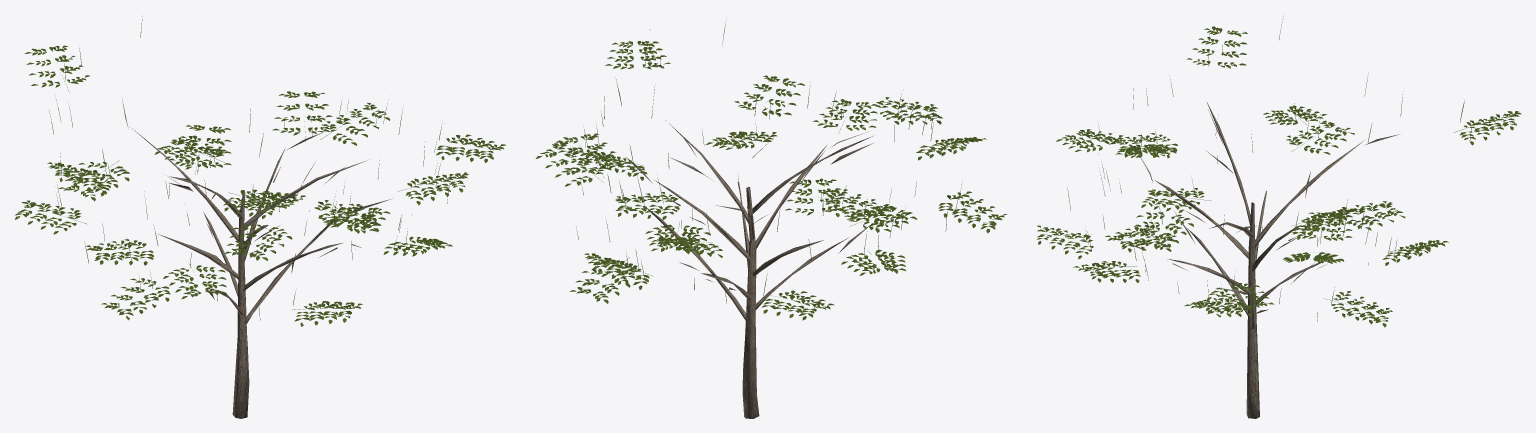
File: koelreuteria-5-lite.glb
3 views of the same model, side by side, from view 1: azimuth 30°, elevation 25°; view 2: azimuth 150°, elevation 25°; view 3: azimuth 270°, elevation 25° (orthographic). The views are drawn at different scales.
Parts seen in each view (by area): view 1: leaf, bark, leaf-edge, stem; view 2: leaf, bark, leaf-edge, stem; view 3: leaf, bark, leaf-edge, stem.
Boxes of the visible parts, bbox=[...] form: leaf: bbox=[15, 45, 505, 326]; bark: bbox=[122, 98, 392, 418]; leaf-edge: bbox=[25, 46, 501, 319]; stem: bbox=[49, 16, 450, 320]; leaf: bbox=[535, 41, 1007, 320]; bark: bbox=[626, 120, 874, 418]; leaf-edge: bbox=[538, 42, 998, 312]; stem: bbox=[576, 22, 961, 303]; leaf: bbox=[1037, 26, 1521, 327]; bark: bbox=[1118, 102, 1399, 418]; leaf-edge: bbox=[1038, 29, 1515, 324]; stem: bbox=[1067, 16, 1471, 321].
Size of what is drawn, in the model's own units: 4.16 by 3.28 by 4.39.
5 materials, 4 textured.
